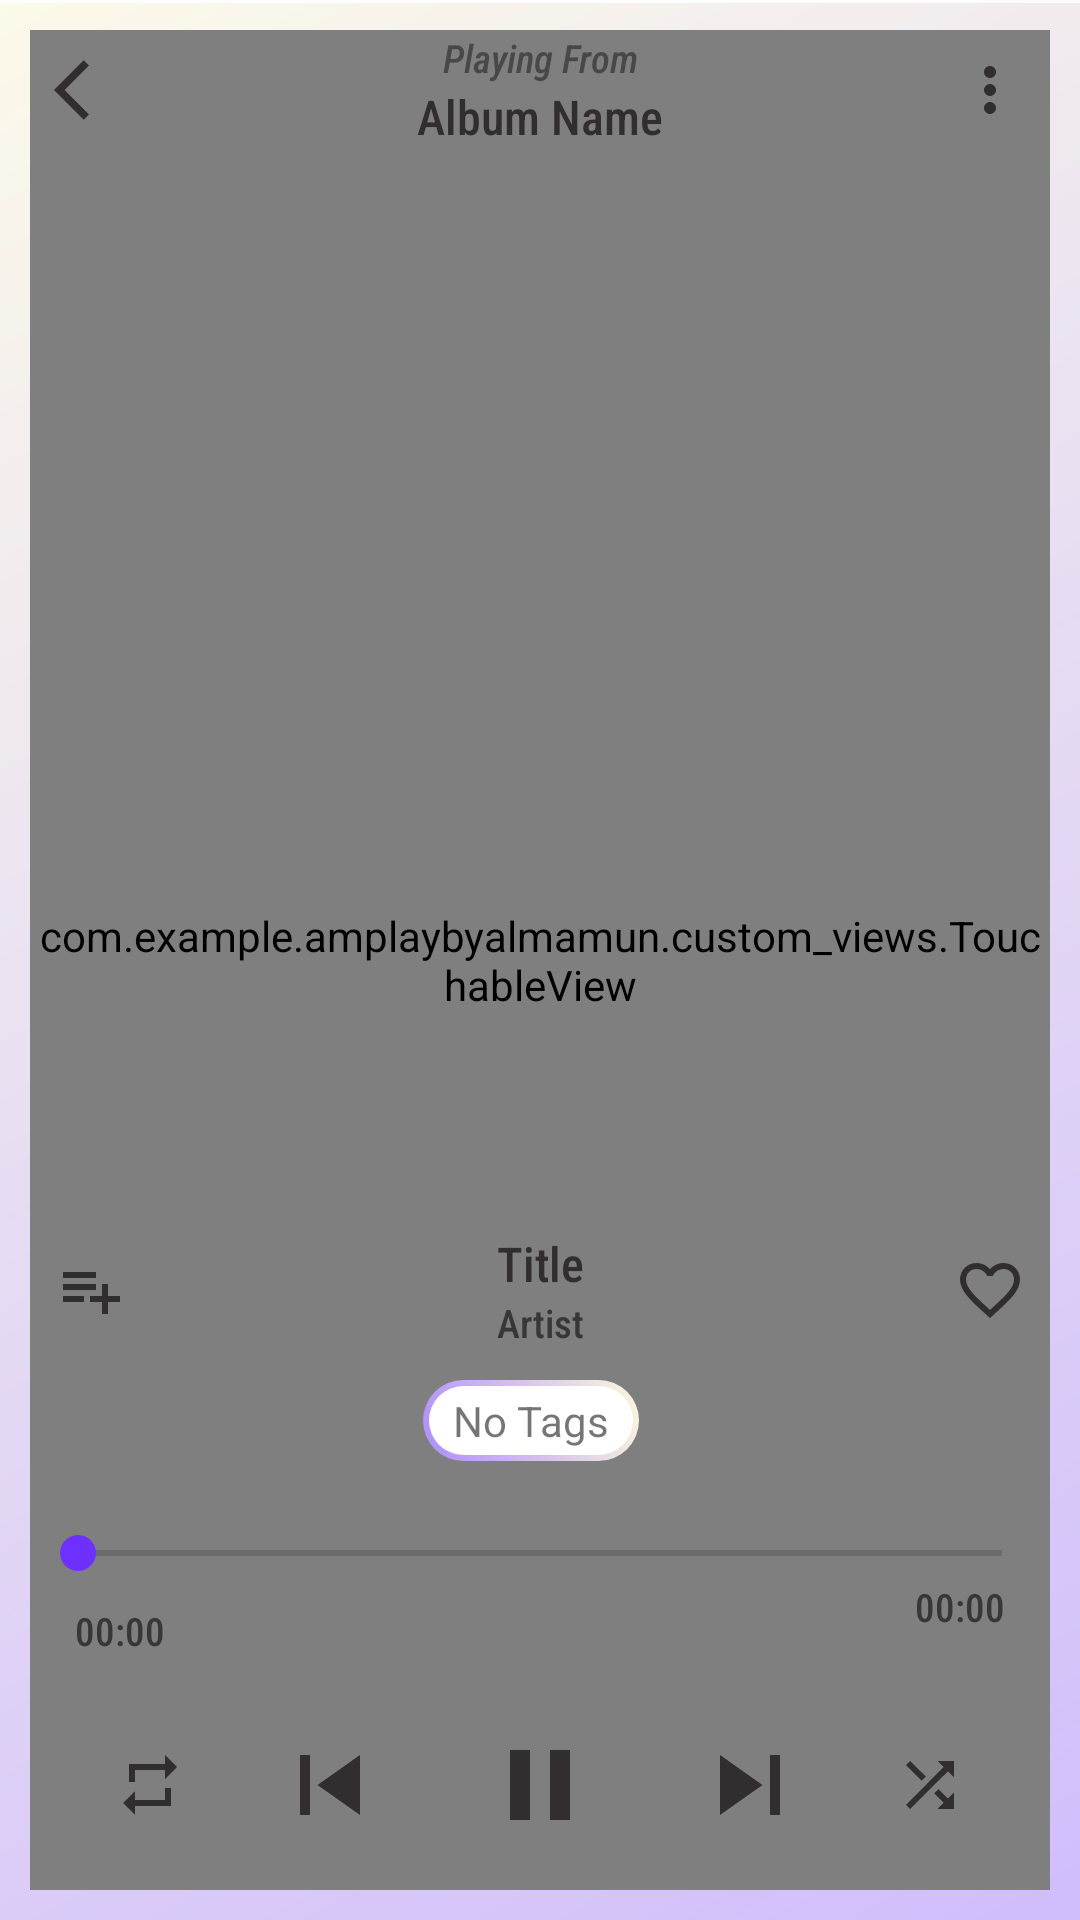

Named icons in this screenshot (1080w x 1920h) and their centers, point (x, y):
add to playlist: point (91, 1293)
back: point (71, 90)
favorite false: point (990, 1290)
menu: point (990, 90)
next: point (750, 1785)
pause: point (540, 1785)
prev: point (330, 1785)
repeat all: point (150, 1785)
shuffle: point (930, 1785)
